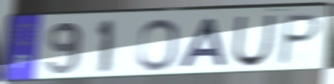1: (94, 18, 115, 76)
9: (45, 21, 83, 76)
A: (178, 16, 229, 70)
O: (135, 17, 180, 72)
P: (276, 13, 324, 67)
U: (230, 14, 278, 69)
